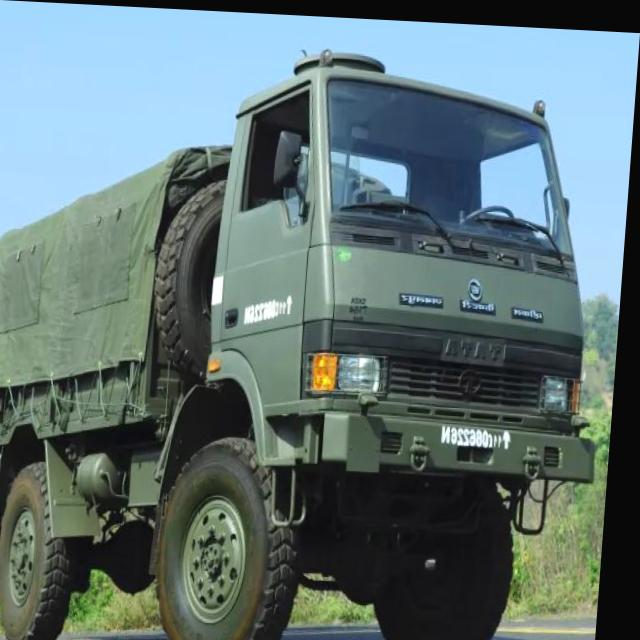0: (489, 423, 495, 442)
1: (504, 429, 509, 443), (500, 429, 504, 443)
2: (463, 424, 470, 439), (470, 425, 476, 440)
6: (456, 422, 465, 441), (476, 424, 482, 441)
8: (482, 424, 489, 442)
c: (494, 429, 500, 442)
n: (447, 421, 457, 439)
